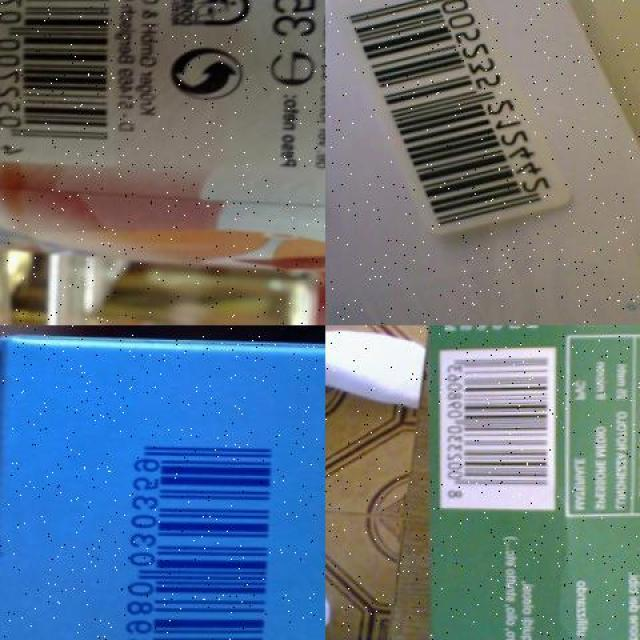Barcode: (325, 0, 586, 233), (103, 417, 304, 640), (0, 0, 127, 163), (440, 344, 565, 508)
